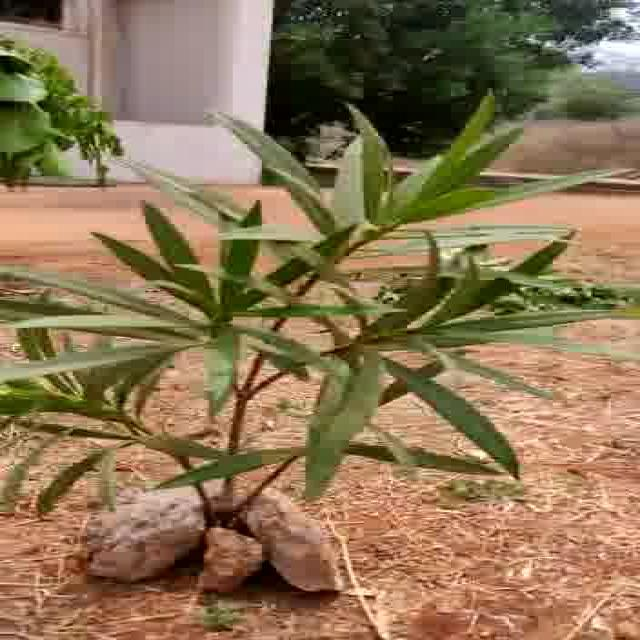OLEANDER: (25, 100, 582, 475)
